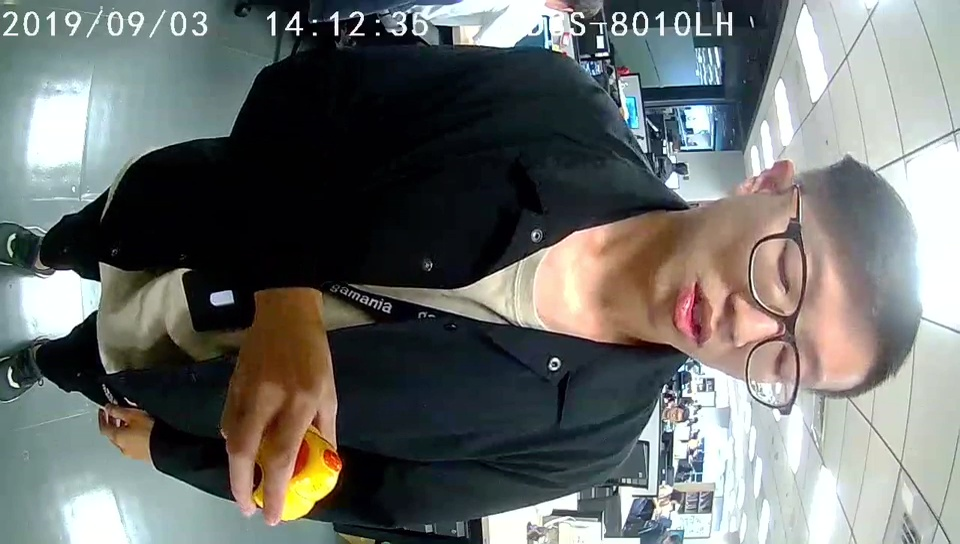car: (277, 422, 341, 521)
